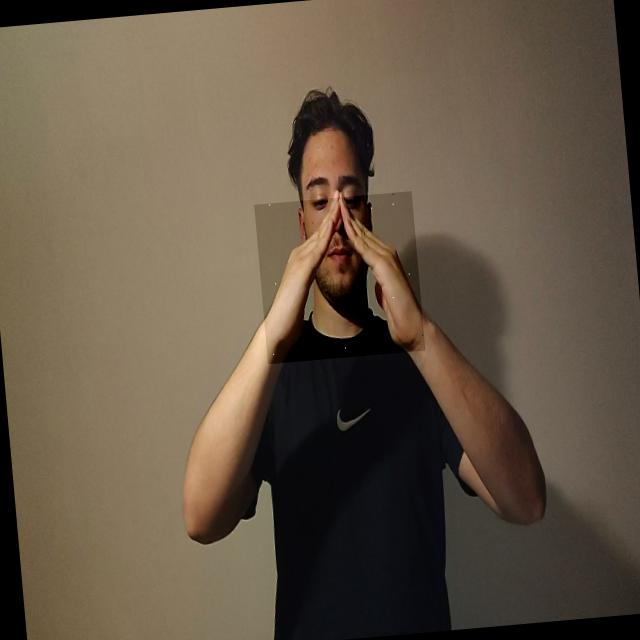house: (254, 190, 425, 364)
